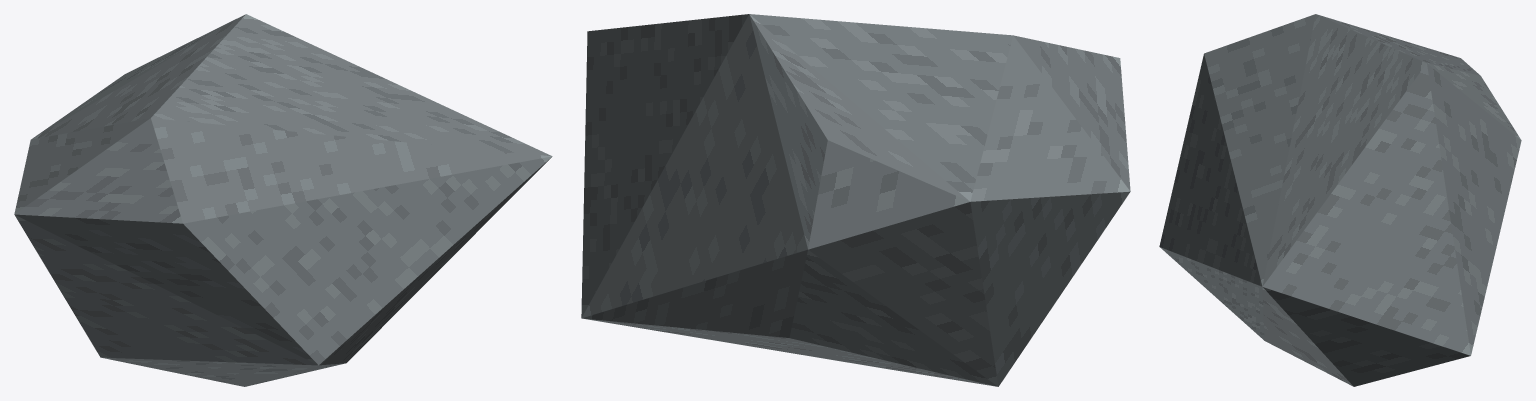
File: chunk_cast_iron.glb
The picture shows the model from 3 angles, left to right: view 1: azimuth 30°, elevation 25°; view 2: azimuth 150°, elevation 25°; view 3: azimuth 270°, elevation 25°; orthographic projection. The views are drawn at different scales.
Parts seen in each view (by area): view 1: block_irregular metal; view 2: block_irregular metal; view 3: block_irregular metal.
Part boxes in pixels (x1,y1,x2,y2): block_irregular metal: (14, 14, 552, 386); block_irregular metal: (581, 14, 1130, 386); block_irregular metal: (1159, 14, 1521, 386).
Bounding box in the file's own units: 0.0619 × 0.0382 × 0.0423.
Materials: 1 (1 with a texture image).
